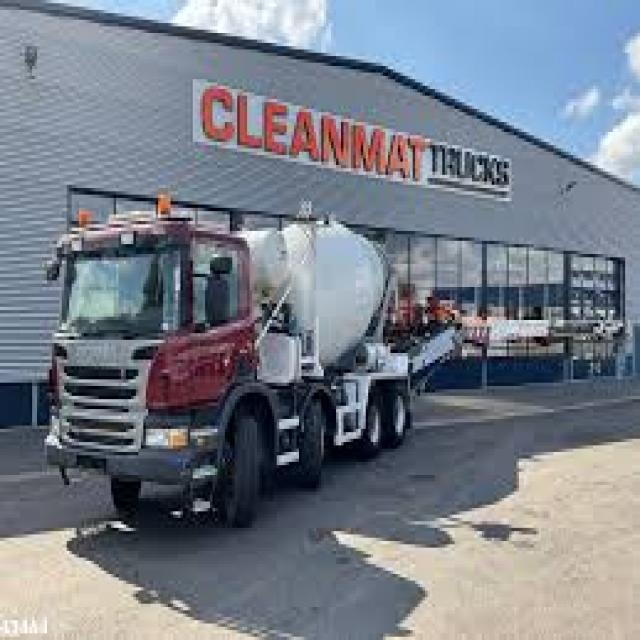Mixer Truck: (40, 192, 414, 531)
